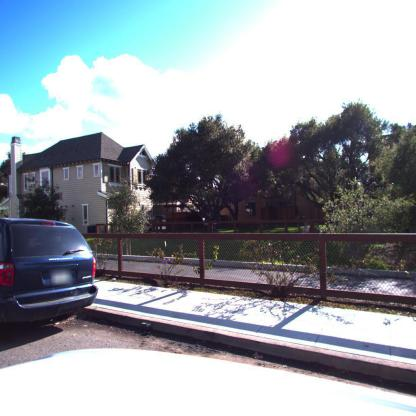car: (0, 215, 98, 329)
